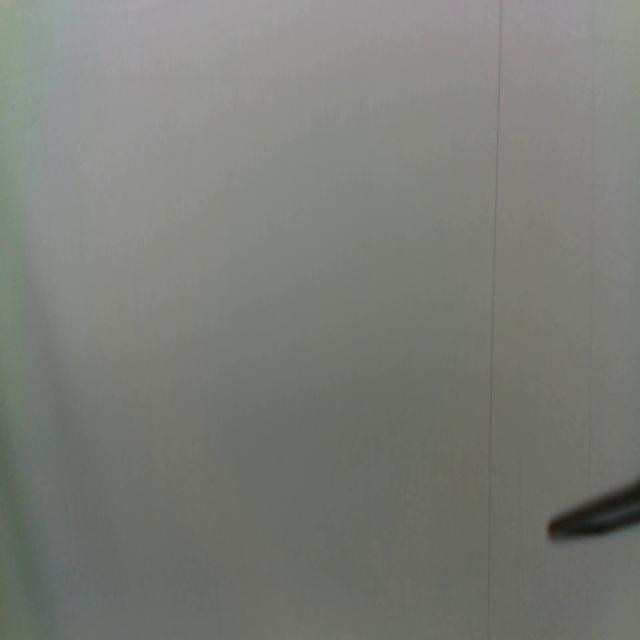crease: (486, 0, 504, 634), (586, 2, 600, 494), (582, 540, 594, 640)
